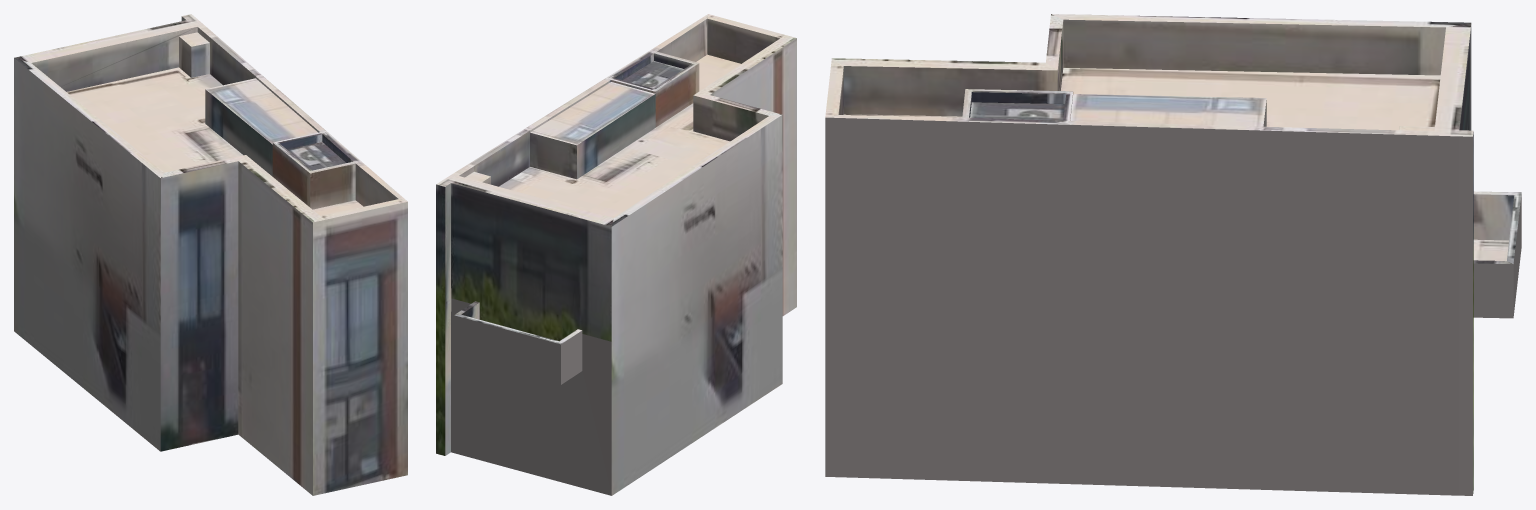
3 renders of one model, left to right at view 1: azimuth 30°, elevation 25°; view 2: azimuth 150°, elevation 25°; view 3: azimuth 270°, elevation 25°, orthographic. The views are drawn at different scales.
Parts seen in each view (by area): view 1: B284634037701062A0; view 2: B284634037701062A0; view 3: B284634037701062A0.
Boxes of the visible parts, left/top/right/bottom form: B284634037701062A0: left=14, top=14, right=407, bottom=495; B284634037701062A0: left=436, top=14, right=796, bottom=495; B284634037701062A0: left=825, top=14, right=1521, bottom=495.
Size of the model in its own units: 6.79 by 9.27 by 16.28.
Materials: 1 (1 with a texture image).
